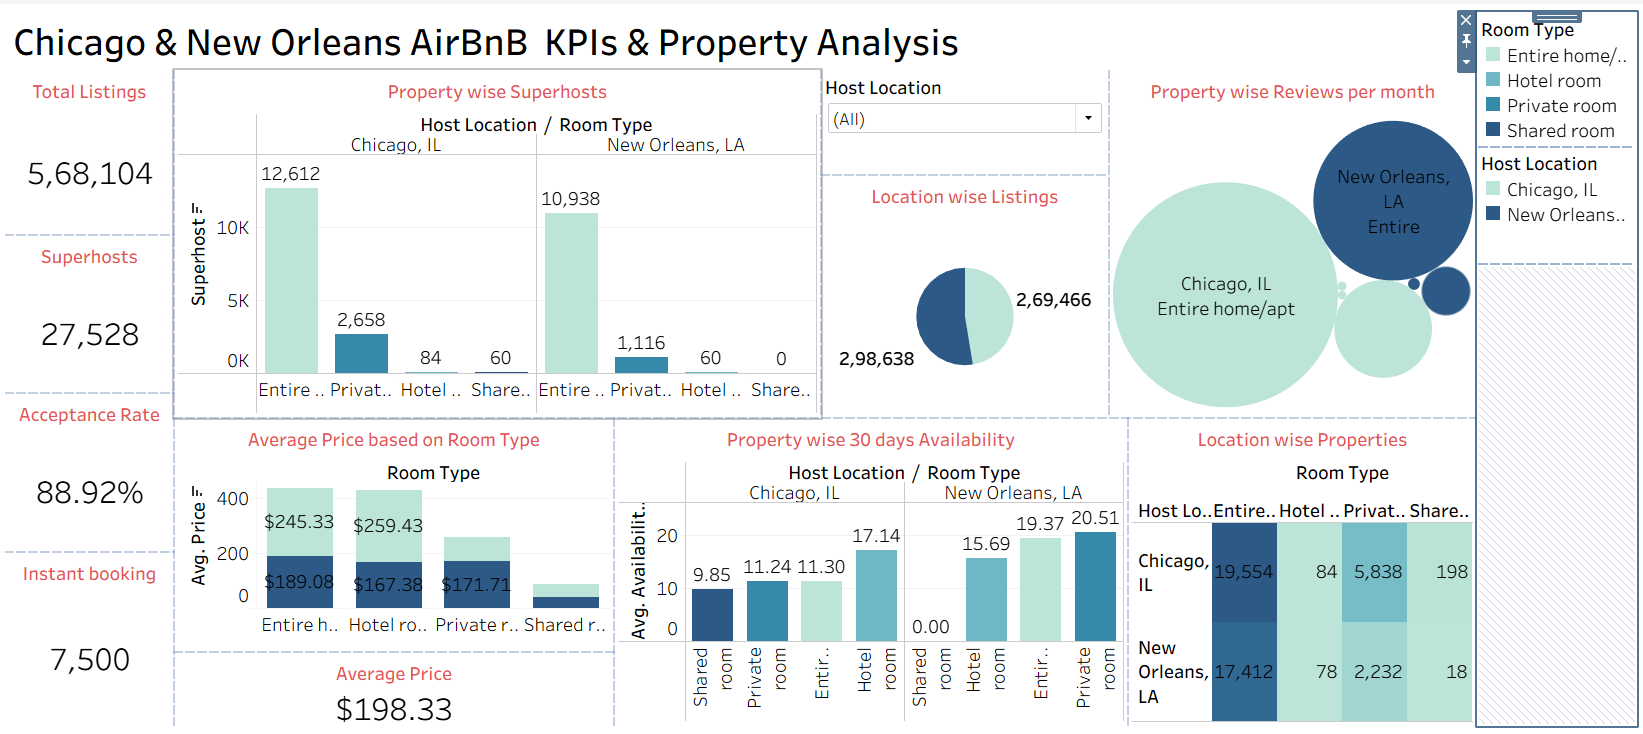

The page's visual inventory and layout, read from the dashboard file:
{"tool":"tableau","page":{"name":"DB - KPI and Property Analysis","canvas":[1000,1000],"units":"permille","ordinal":1},"visuals":[{"type":"title","box":[4.9,11,893.2,79.5]},{"type":"legend","title":"Property wise Superhosts","param":"[federated.1dk3tz613rppmf14h9z8i1sxdjd3].[none:room_type:nk]","box":[898.1,11,97.1,183.6]},{"type":"worksheet","title":"Total Listings","mark":"Automatic","box":[4.9,90.4,102.5,226]},{"type":"worksheet","title":"Property wise Superhosts","mark":"Automatic","rows":["Superhost"],"cols":["host_location","room_type"],"box":[107.4,90.4,392.6,476.7]},{"type":"filter","title":"Location wise Listings","param":"[federated.1dk3tz613rppmf14h9z8i1sxdjd3].[none:host_location:nk]","box":[500,90.4,174.8,143.8]},{"type":"worksheet","title":"Property wise Reviews per month","mark":"Circle","box":[674.8,90.4,223.3,476.7]},{"type":"legend","title":"Location wise Listings","param":"[federated.1dk3tz613rppmf14h9z8i1sxdjd3].[none:host_location:nk]","box":[898.1,194.5,97.1,160.3]},{"type":"worksheet","title":"Location wise Listings","mark":"Pie","box":[500,234.2,174.8,332.9]},{"type":"worksheet","title":"Superhosts","mark":"Automatic","box":[4.9,316.4,102.5,217.1]},{"type":"worksheet","title":"Acceptance Rate","mark":"Automatic","box":[4.9,533.6,102.5,217.1]},{"type":"worksheet","title":"Average Price based on Room Type","mark":"Bar","rows":["price"],"cols":["room_type"],"box":[107.4,567.1,267,320.6]},{"type":"worksheet","title":"Property wise 30 days Availability","mark":"Automatic","rows":["availability_30"],"cols":["host_location","room_type"],"box":[374.4,567.1,311.9,421.9]},{"type":"worksheet","title":"Location wise Properties","mark":"Square","rows":["host_location"],"cols":["room_type"],"box":[686.3,567.1,211.8,421.9]},{"type":"worksheet","title":"Instant booking","mark":"Automatic","box":[4.9,750.7,102.5,238.4]},{"type":"worksheet","title":"Average Price","mark":"Automatic","box":[107.4,887.7,267,101.4]}]}

Visuals, with their boxes on the dashboard's canvas, which has no fixed pixel size, in thousandths of its width and height (x1, y1, x2, y2). These are canvas units, not pixel positions in the 1643x734 screenshot, which may show the page scaled, cropped or inside an application window:
title: l=5, t=11, r=898, b=90
"Property wise Superhosts" legend: l=898, t=11, r=995, b=195
"Total Listings" worksheet: l=5, t=90, r=107, b=316
"Property wise Superhosts" worksheet: l=107, t=90, r=500, b=567
"Location wise Listings" filter: l=500, t=90, r=675, b=234
"Property wise Reviews per month" worksheet (Circle marks): l=675, t=90, r=898, b=567
"Location wise Listings" legend: l=898, t=194, r=995, b=355
"Location wise Listings" worksheet (Pie marks): l=500, t=234, r=675, b=567
"Superhosts" worksheet: l=5, t=316, r=107, b=534
"Acceptance Rate" worksheet: l=5, t=534, r=107, b=751
"Average Price based on Room Type" worksheet (Bar marks): l=107, t=567, r=374, b=888
"Property wise 30 days Availability" worksheet: l=374, t=567, r=686, b=989
"Location wise Properties" worksheet (Square marks): l=686, t=567, r=898, b=989
"Instant booking" worksheet: l=5, t=751, r=107, b=989
"Average Price" worksheet: l=107, t=888, r=374, b=989
